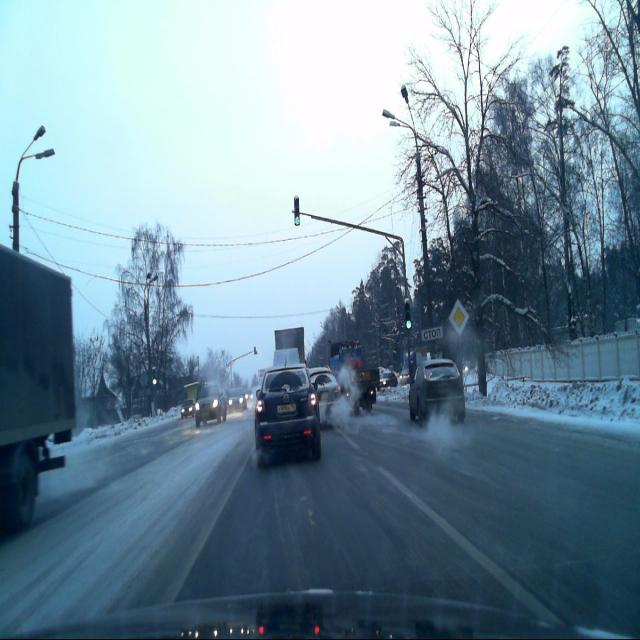road sign: (449, 300, 469, 334), (420, 325, 443, 340)
